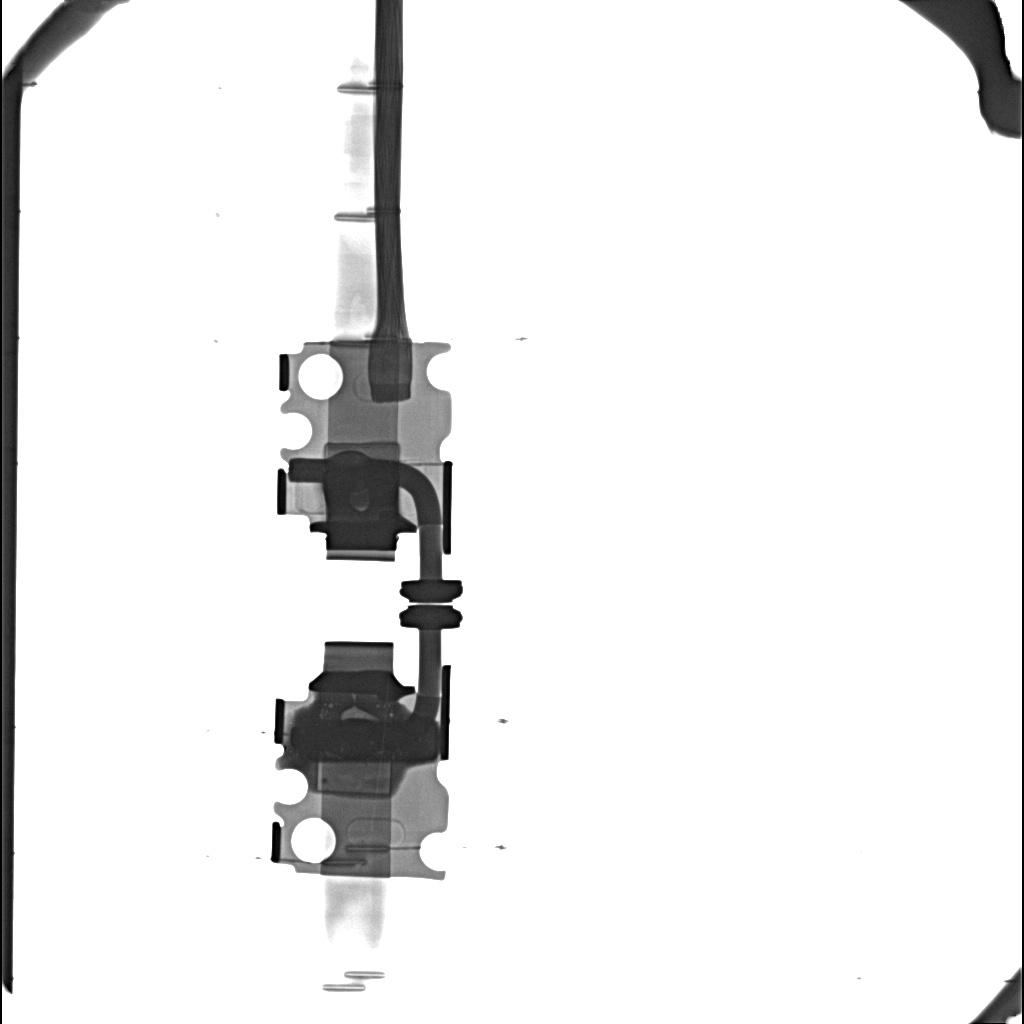defect: (291, 720, 438, 762), (315, 763, 394, 797), (322, 460, 398, 494), (323, 441, 401, 459), (339, 705, 377, 719)
